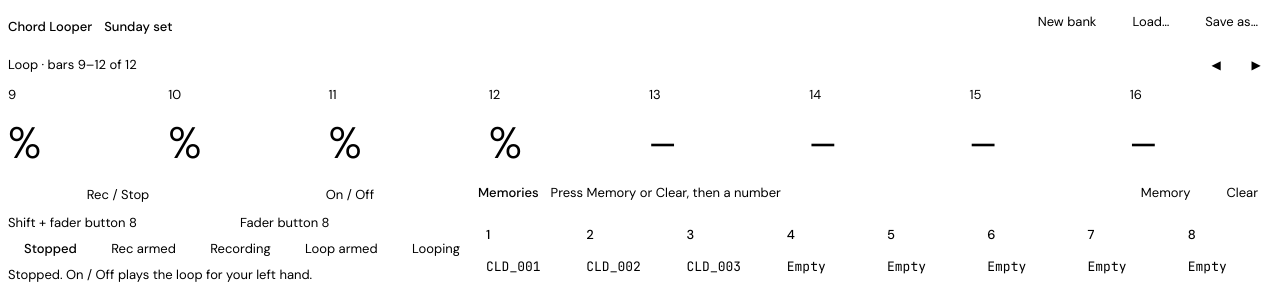
Test case: Looper lane › stays on the window that was playing when the loop stops, until paged
Note: Paging back by hand lets go of it.
Click the button named "Earlier bars": point(1216, 65) top-left (1200, 51), bottom-right (1232, 79)
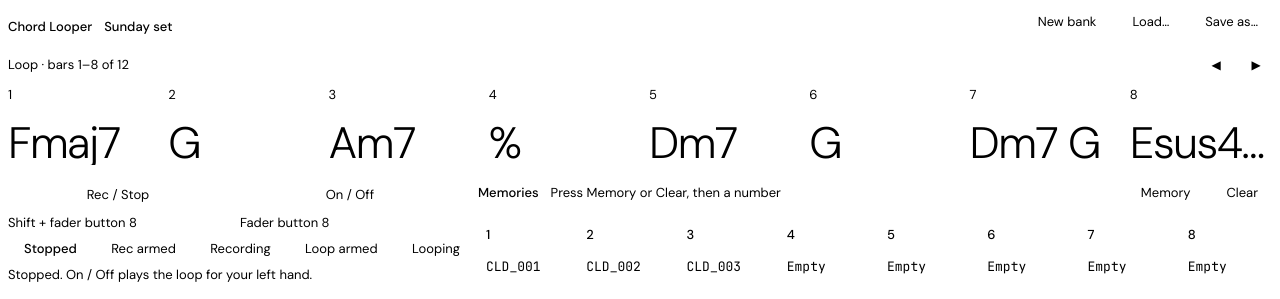
Check: the text "bars 1–8 of 12" is shown, box top-left (8, 56), bottom-right (129, 73)
